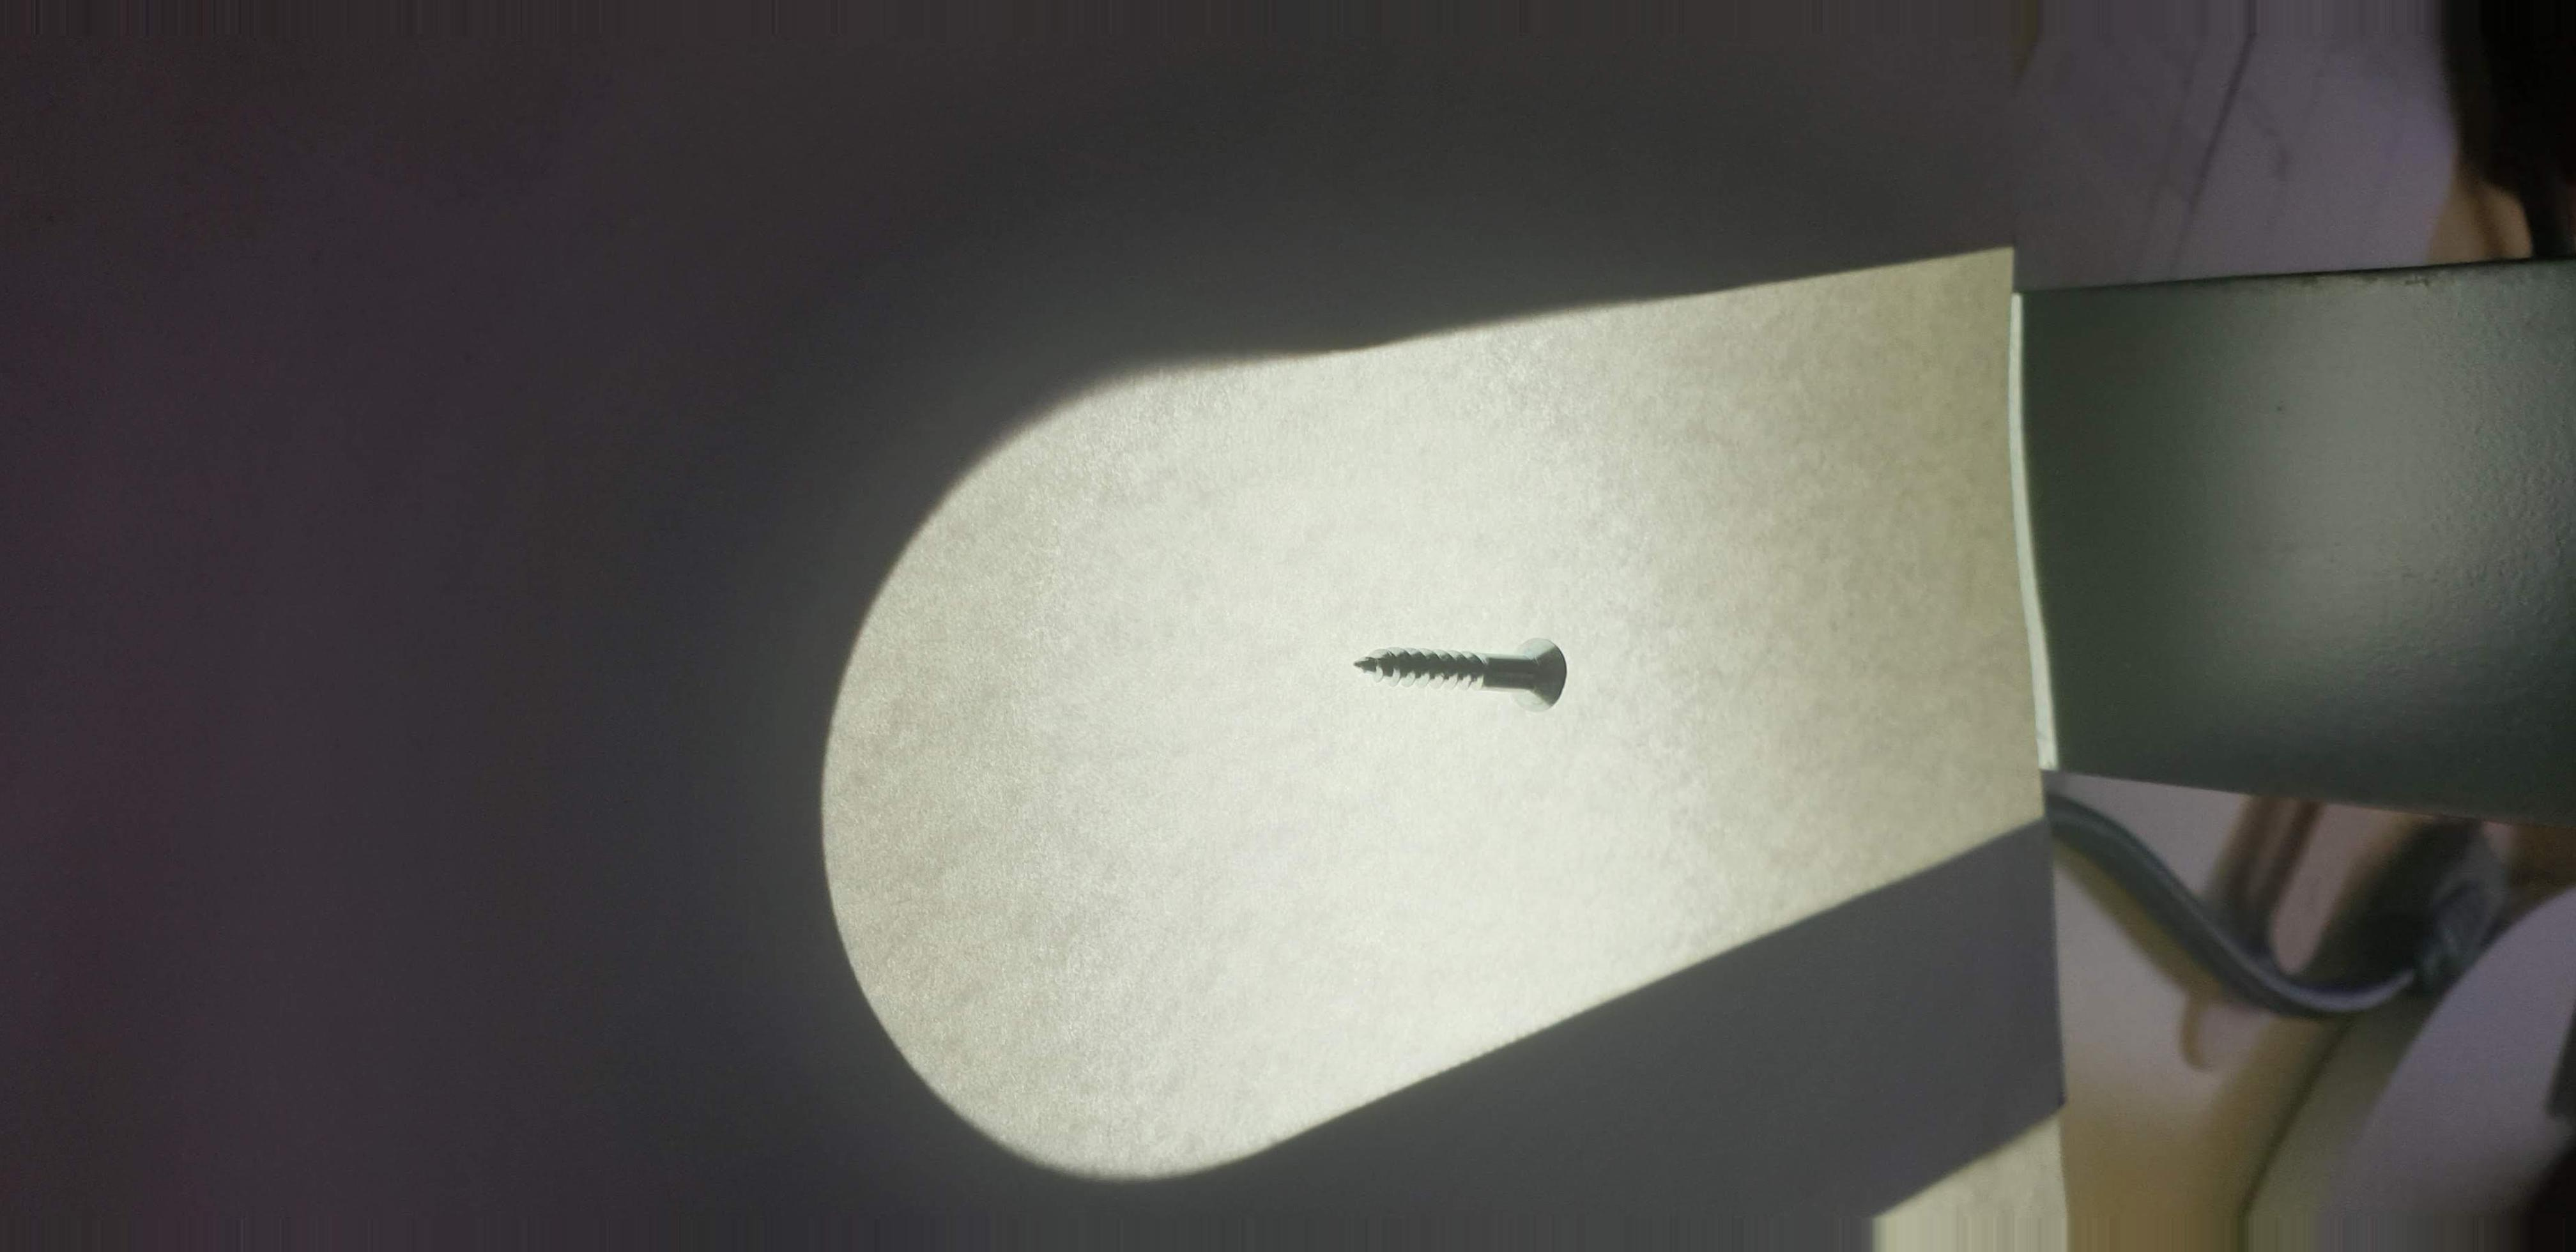S005: (1326, 596, 1610, 733)
